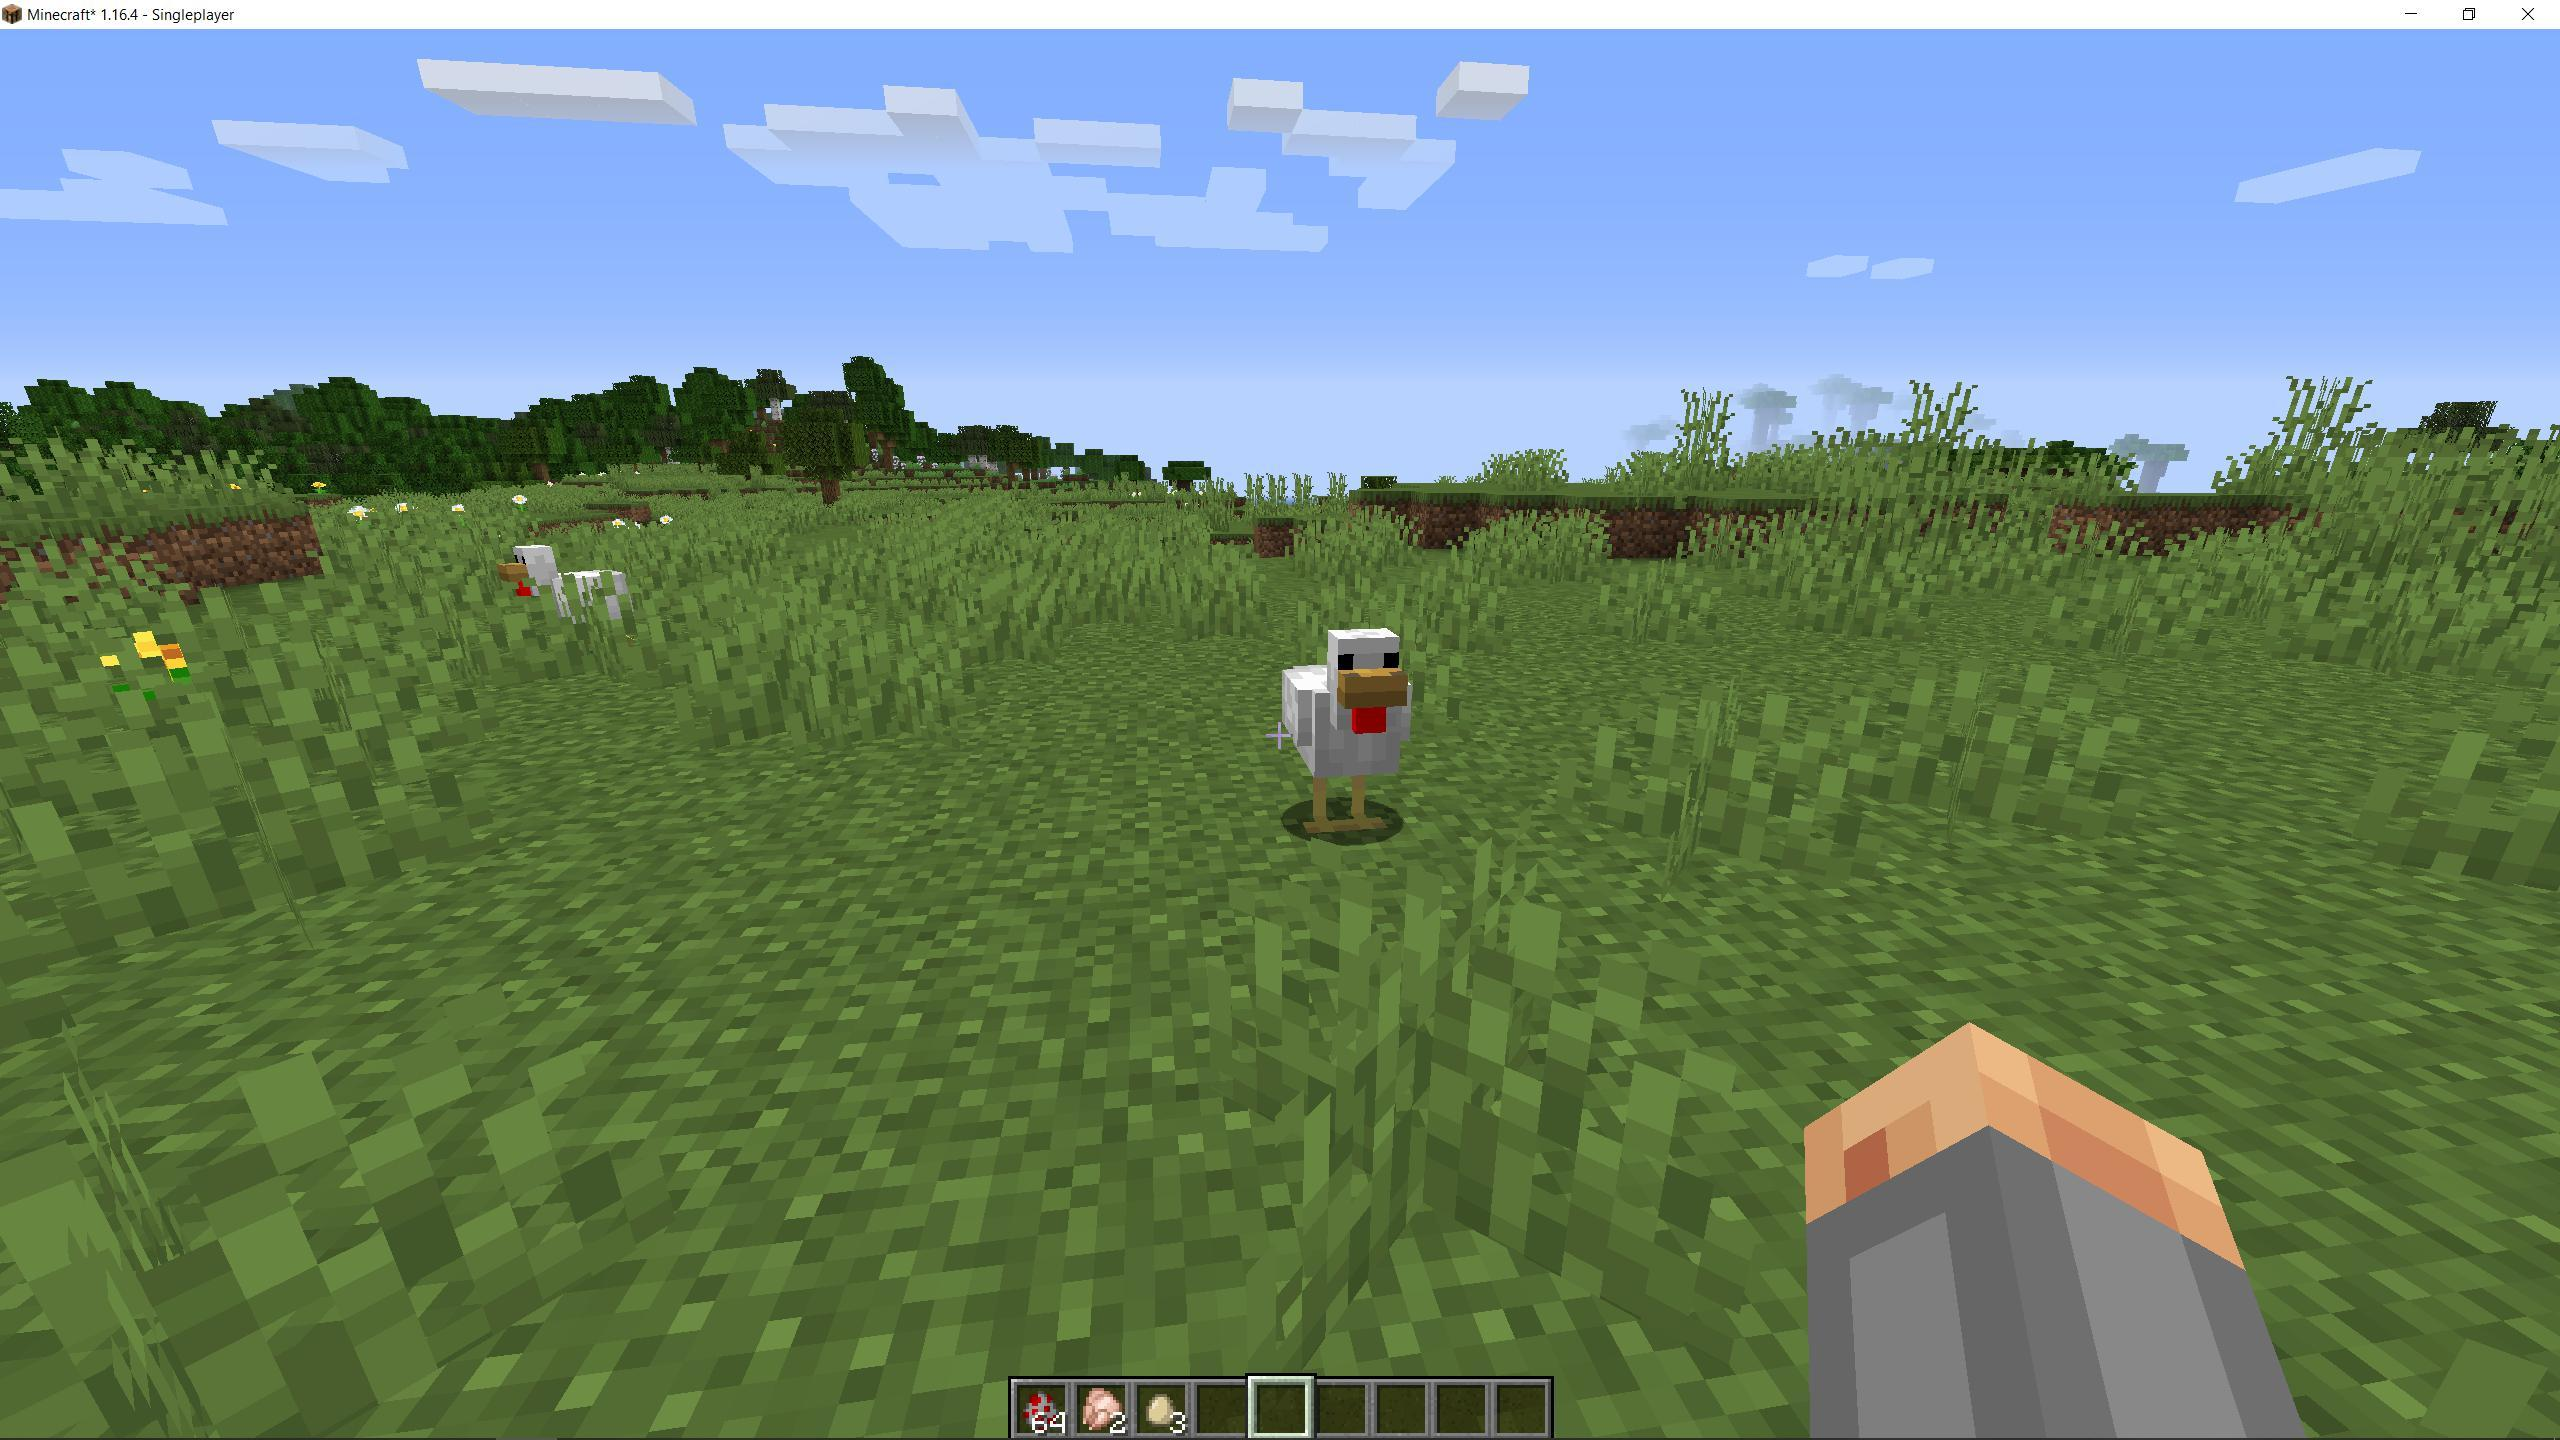chicken: (1276, 622, 1426, 860), (491, 533, 644, 659)
